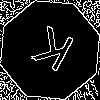K: (25, 25, 77, 81)
